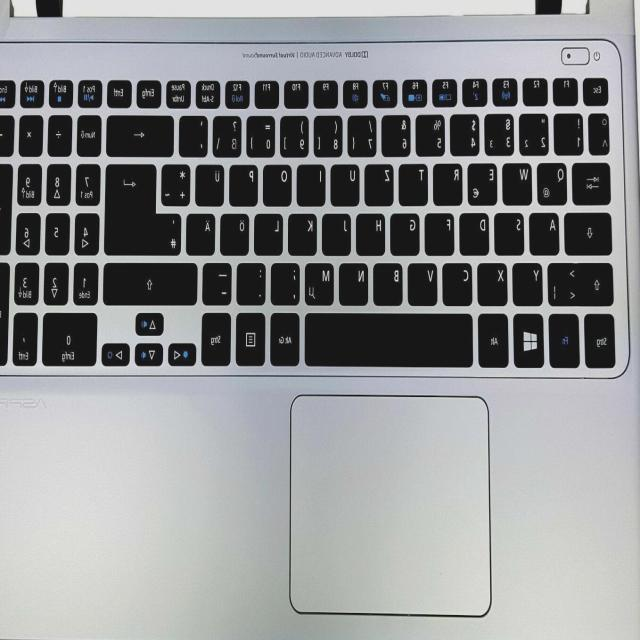0: (247, 115, 277, 157)
1: (554, 113, 584, 157)
2: (520, 113, 549, 155)
3: (485, 113, 515, 155)
4: (450, 114, 480, 156)
5: (416, 113, 445, 157)
6: (382, 114, 411, 157)
7: (349, 115, 377, 157)
8: (314, 115, 343, 157)
9: (281, 115, 309, 157)
a: (530, 213, 559, 255)
accent: (179, 114, 208, 157)
ae: (186, 213, 216, 255)
alt-left: (479, 313, 509, 367)
altgr-right: (271, 312, 300, 365)
b: (373, 263, 403, 306)
c: (443, 263, 473, 306)
caret: (588, 113, 610, 155)
comma: (271, 263, 300, 305)
d: (460, 213, 489, 255)
del: (107, 114, 175, 157)
e: (469, 163, 498, 206)
enter: (105, 162, 157, 254)
f: (425, 213, 454, 256)
g: (391, 214, 420, 256)
h: (357, 213, 386, 256)
hash: (146, 213, 182, 254)
i: (298, 164, 326, 206)
j: (323, 213, 351, 255)
k: (288, 213, 317, 256)
keyboard: (0, 38, 631, 379)
l: (254, 213, 284, 255)
less: (548, 262, 578, 306)
m: (305, 263, 334, 306)
minus: (203, 262, 233, 304)
n: (339, 263, 369, 306)
o: (263, 164, 292, 206)
oe: (221, 213, 249, 255)
p: (230, 165, 258, 206)
plus: (163, 165, 191, 205)
point: (237, 263, 267, 305)
q: (538, 162, 568, 205)
r: (433, 164, 463, 206)
s: (495, 213, 524, 255)
shift-left: (580, 263, 614, 305)
shift-lock: (565, 213, 613, 255)
shift-right: (104, 262, 198, 305)
space: (306, 313, 474, 367)
ss: (214, 115, 242, 156)
strg-left: (586, 313, 616, 368)
strg-right: (202, 312, 232, 366)
t: (399, 164, 429, 205)
tab: (573, 161, 611, 204)
u: (331, 164, 359, 205)
ue: (196, 165, 224, 207)
v: (408, 263, 438, 306)
w: (503, 163, 533, 205)
x: (478, 263, 508, 305)
y: (512, 263, 544, 306)
z: (365, 164, 394, 206)
